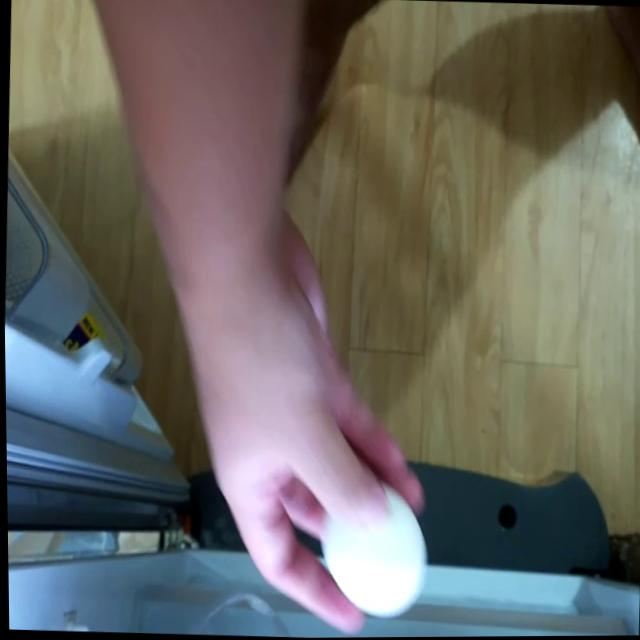egg: (317, 480, 435, 621)
